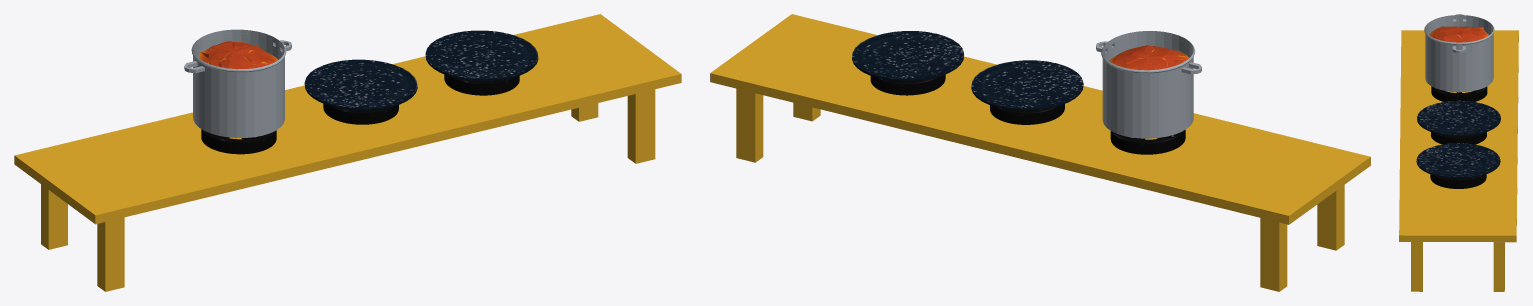
Rendered from foodtruckinside_burnerstable.obj.
3 renders of one model, left to right at view 1: azimuth 30°, elevation 25°; view 2: azimuth 150°, elevation 25°; view 3: azimuth 270°, elevation 25°, orthographic. The views are drawn at different scales.
Parts seen in each view (by area): view 1: Cube.002, Cylinder.003, Cylinder, Cylinder.001, Sphere.013, Cylinder.002; view 2: Cube.002, Cylinder.003, Cylinder.001, Cylinder, Sphere.013, Cylinder.002; view 3: Cube.002, Cylinder.003, Cylinder, Cylinder.001, Sphere.013, Cylinder.002.
Boxes of the visible parts, left/top/right/bottom form: Cube.002: left=14, top=14, right=681, bottom=291; Cylinder.003: left=184, top=29, right=291, bottom=137; Cylinder: left=425, top=30, right=538, bottom=95; Cylinder.001: left=304, top=59, right=417, bottom=124; Sphere.013: left=199, top=40, right=277, bottom=69; Cylinder.002: left=201, top=129, right=276, bottom=154; Cube.002: left=710, top=14, right=1370, bottom=291; Cylinder.003: left=1096, top=31, right=1201, bottom=138; Cylinder.001: left=971, top=60, right=1083, bottom=124; Cylinder: left=852, top=31, right=963, bottom=95; Sphere.013: left=1109, top=45, right=1188, bottom=70; Cylinder.002: left=1110, top=129, right=1185, bottom=154; Cube.002: left=1399, top=30, right=1518, bottom=291; Cylinder.003: left=1424, top=14, right=1494, bottom=92; Cylinder: left=1416, top=143, right=1500, bottom=188; Cylinder.001: left=1417, top=100, right=1500, bottom=144; Sphere.013: left=1429, top=26, right=1488, bottom=42; Cylinder.002: left=1431, top=86, right=1487, bottom=101.
Size of the model in its own units: 18.72 by 5.46 by 4.61.
